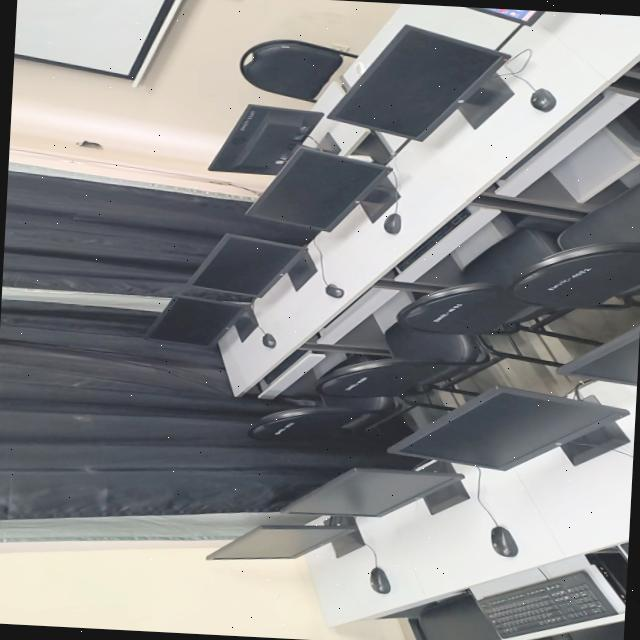Chair: (397, 222, 601, 346), (315, 312, 559, 398), (513, 185, 640, 308), (248, 377, 449, 440), (239, 40, 355, 103), (416, 593, 537, 640), (580, 290, 640, 311), (568, 622, 625, 640)
Cpu: (622, 100, 640, 132)
Keyboard: (476, 570, 625, 638)
Monitor: (328, 25, 512, 142), (392, 386, 628, 471), (245, 146, 399, 232), (279, 462, 463, 517), (187, 234, 315, 297), (208, 105, 322, 175), (206, 517, 363, 560), (144, 297, 247, 347), (558, 325, 640, 386)
Mouse: (490, 527, 517, 558), (529, 89, 555, 112), (369, 567, 389, 594), (383, 213, 400, 235), (324, 284, 342, 299), (261, 334, 275, 348)
